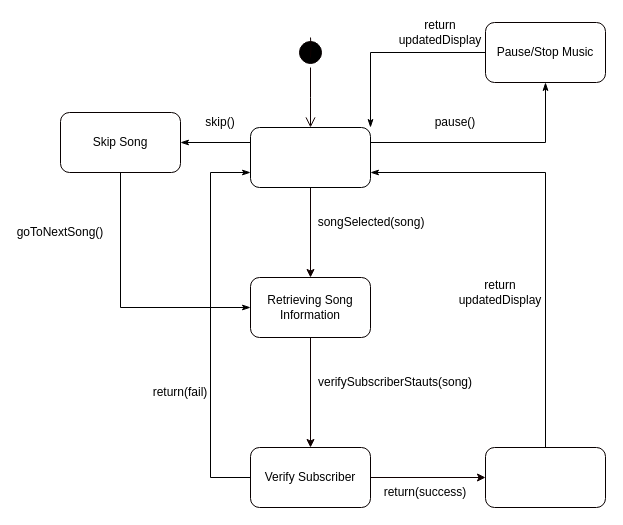
The diagram is 623 pixels wide and 525 high, and some of its shapes have lost their labels. The shapes that lost their labels are listed below. From the top down, each one's box as (x1, y1, x2, y2) in pixels, then its label:
(250, 126, 370, 188): idle, waiting for subscriber action
(484, 446, 606, 508): Play Song
